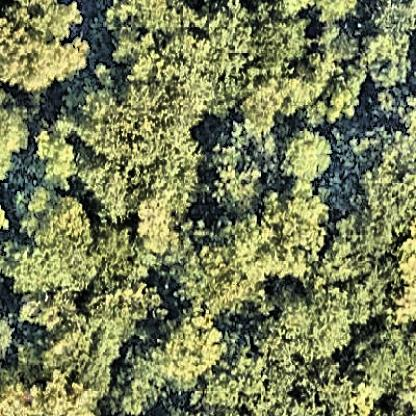tree-top: (90, 42, 216, 158), (7, 191, 97, 297), (1, 1, 93, 88), (131, 310, 223, 392), (249, 187, 329, 280), (273, 292, 365, 366), (204, 127, 278, 212), (42, 312, 122, 390), (178, 250, 268, 310), (338, 181, 407, 256), (200, 352, 280, 415), (360, 1, 416, 89), (355, 325, 416, 395), (101, 1, 184, 49), (4, 377, 103, 416), (229, 70, 287, 135), (199, 4, 256, 70), (294, 361, 360, 416), (350, 132, 416, 185), (281, 123, 337, 182), (33, 124, 83, 187), (252, 16, 309, 70), (86, 157, 139, 215), (1, 89, 33, 177), (143, 161, 197, 213), (139, 194, 181, 254), (92, 227, 135, 281), (315, 20, 367, 63), (318, 78, 367, 121), (395, 234, 416, 321)
